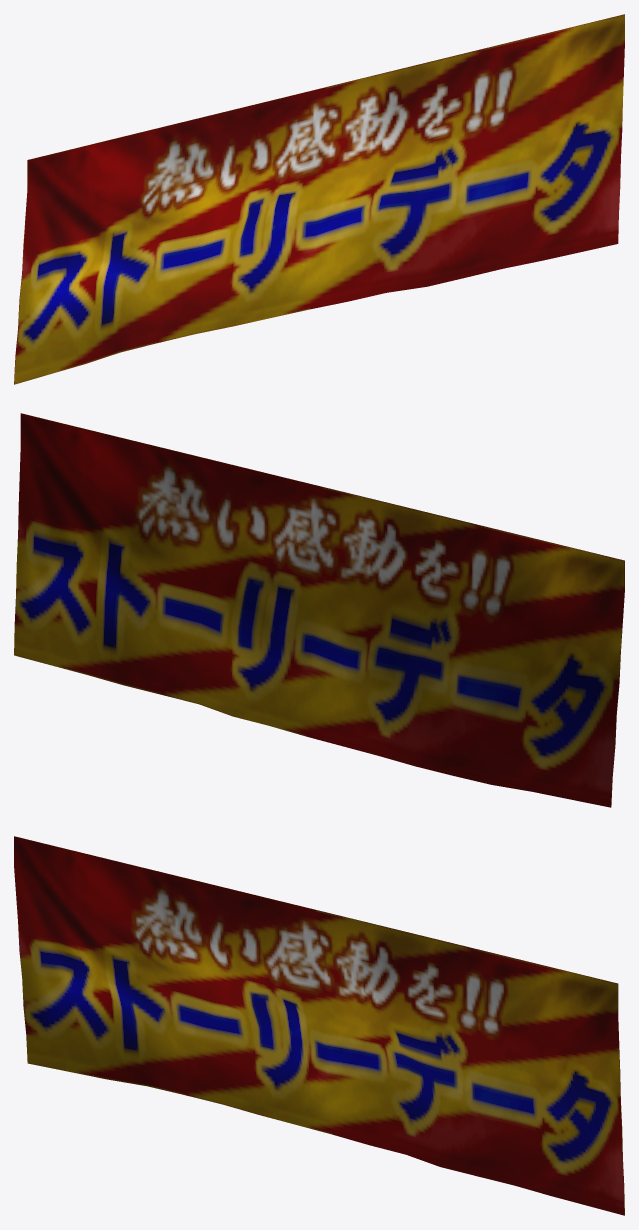
Rendered from story_date.icn.obj.
3 renders of one model, top to bottom at view 1: azimuth 30°, elevation 25°; view 2: azimuth 150°, elevation 25°; view 3: azimuth 330°, elevation 25°, orthographic.
Bounding box in the file's own units: 4.95 × 1.86 × 0.2935.
Materials: 1 (1 with a texture image).
